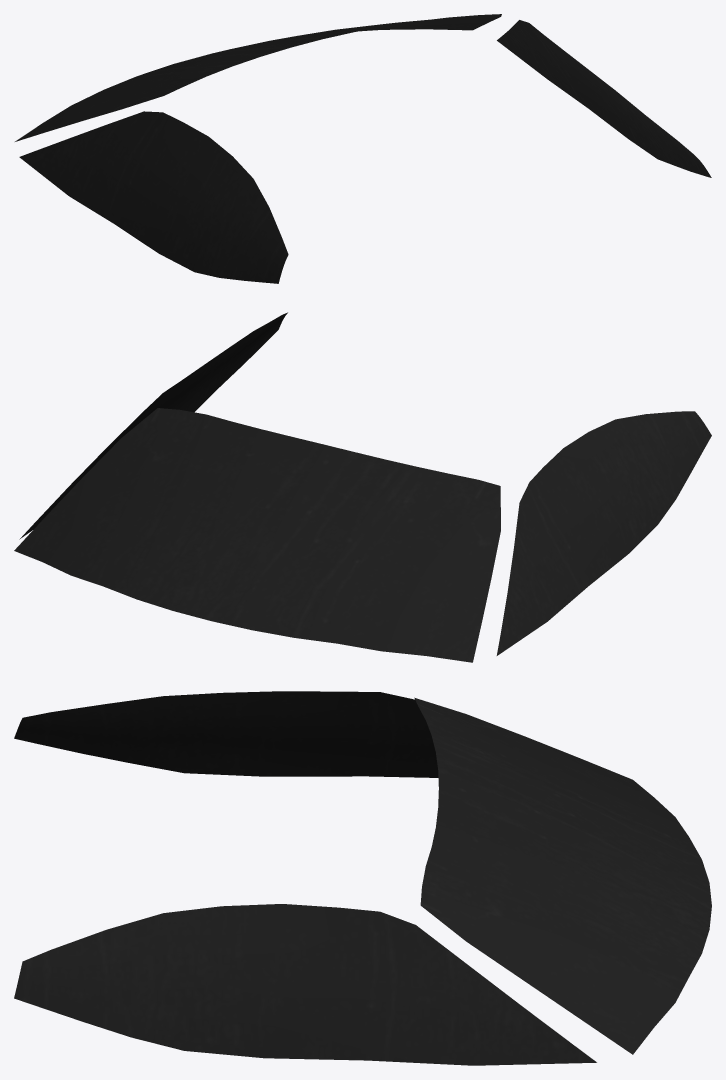
Rendered from car_glass.glb.
3 renders of one model, top to bottom at view 1: azimuth 30°, elevation 25°; view 2: azimuth 150°, elevation 25°; view 3: azimuth 270°, elevation 25°, orthographic. The views are drawn at different scales.
Visible parts, largest first — view 1: cb_car_export_cb_car_0.001; view 2: cb_car_export_cb_car_0.001; view 3: cb_car_export_cb_car_0.001.
Boxes of the visible parts, x1,y1,x2,y2 form: cb_car_export_cb_car_0.001: (15,14,711,283); cb_car_export_cb_car_0.001: (14,312,711,662); cb_car_export_cb_car_0.001: (14,691,711,1065).
Size of the model in its own units: 182 by 39.6 by 187.
1 material, 1 textured.
